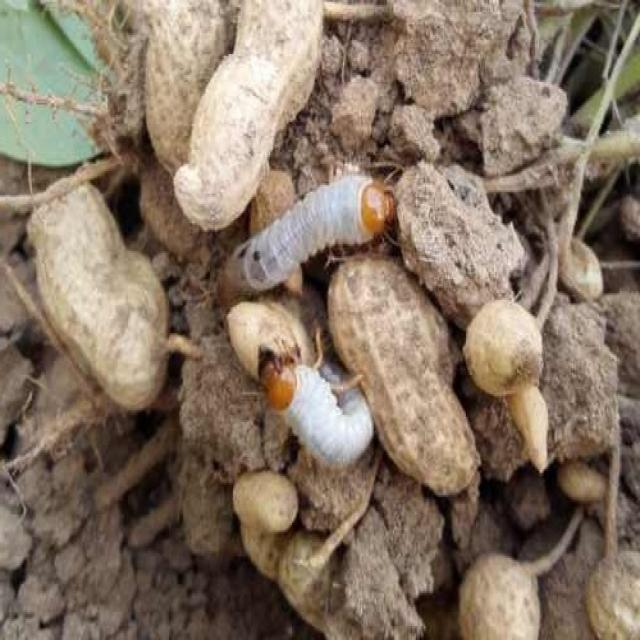grub: (231, 182, 398, 299), (246, 341, 381, 474)
